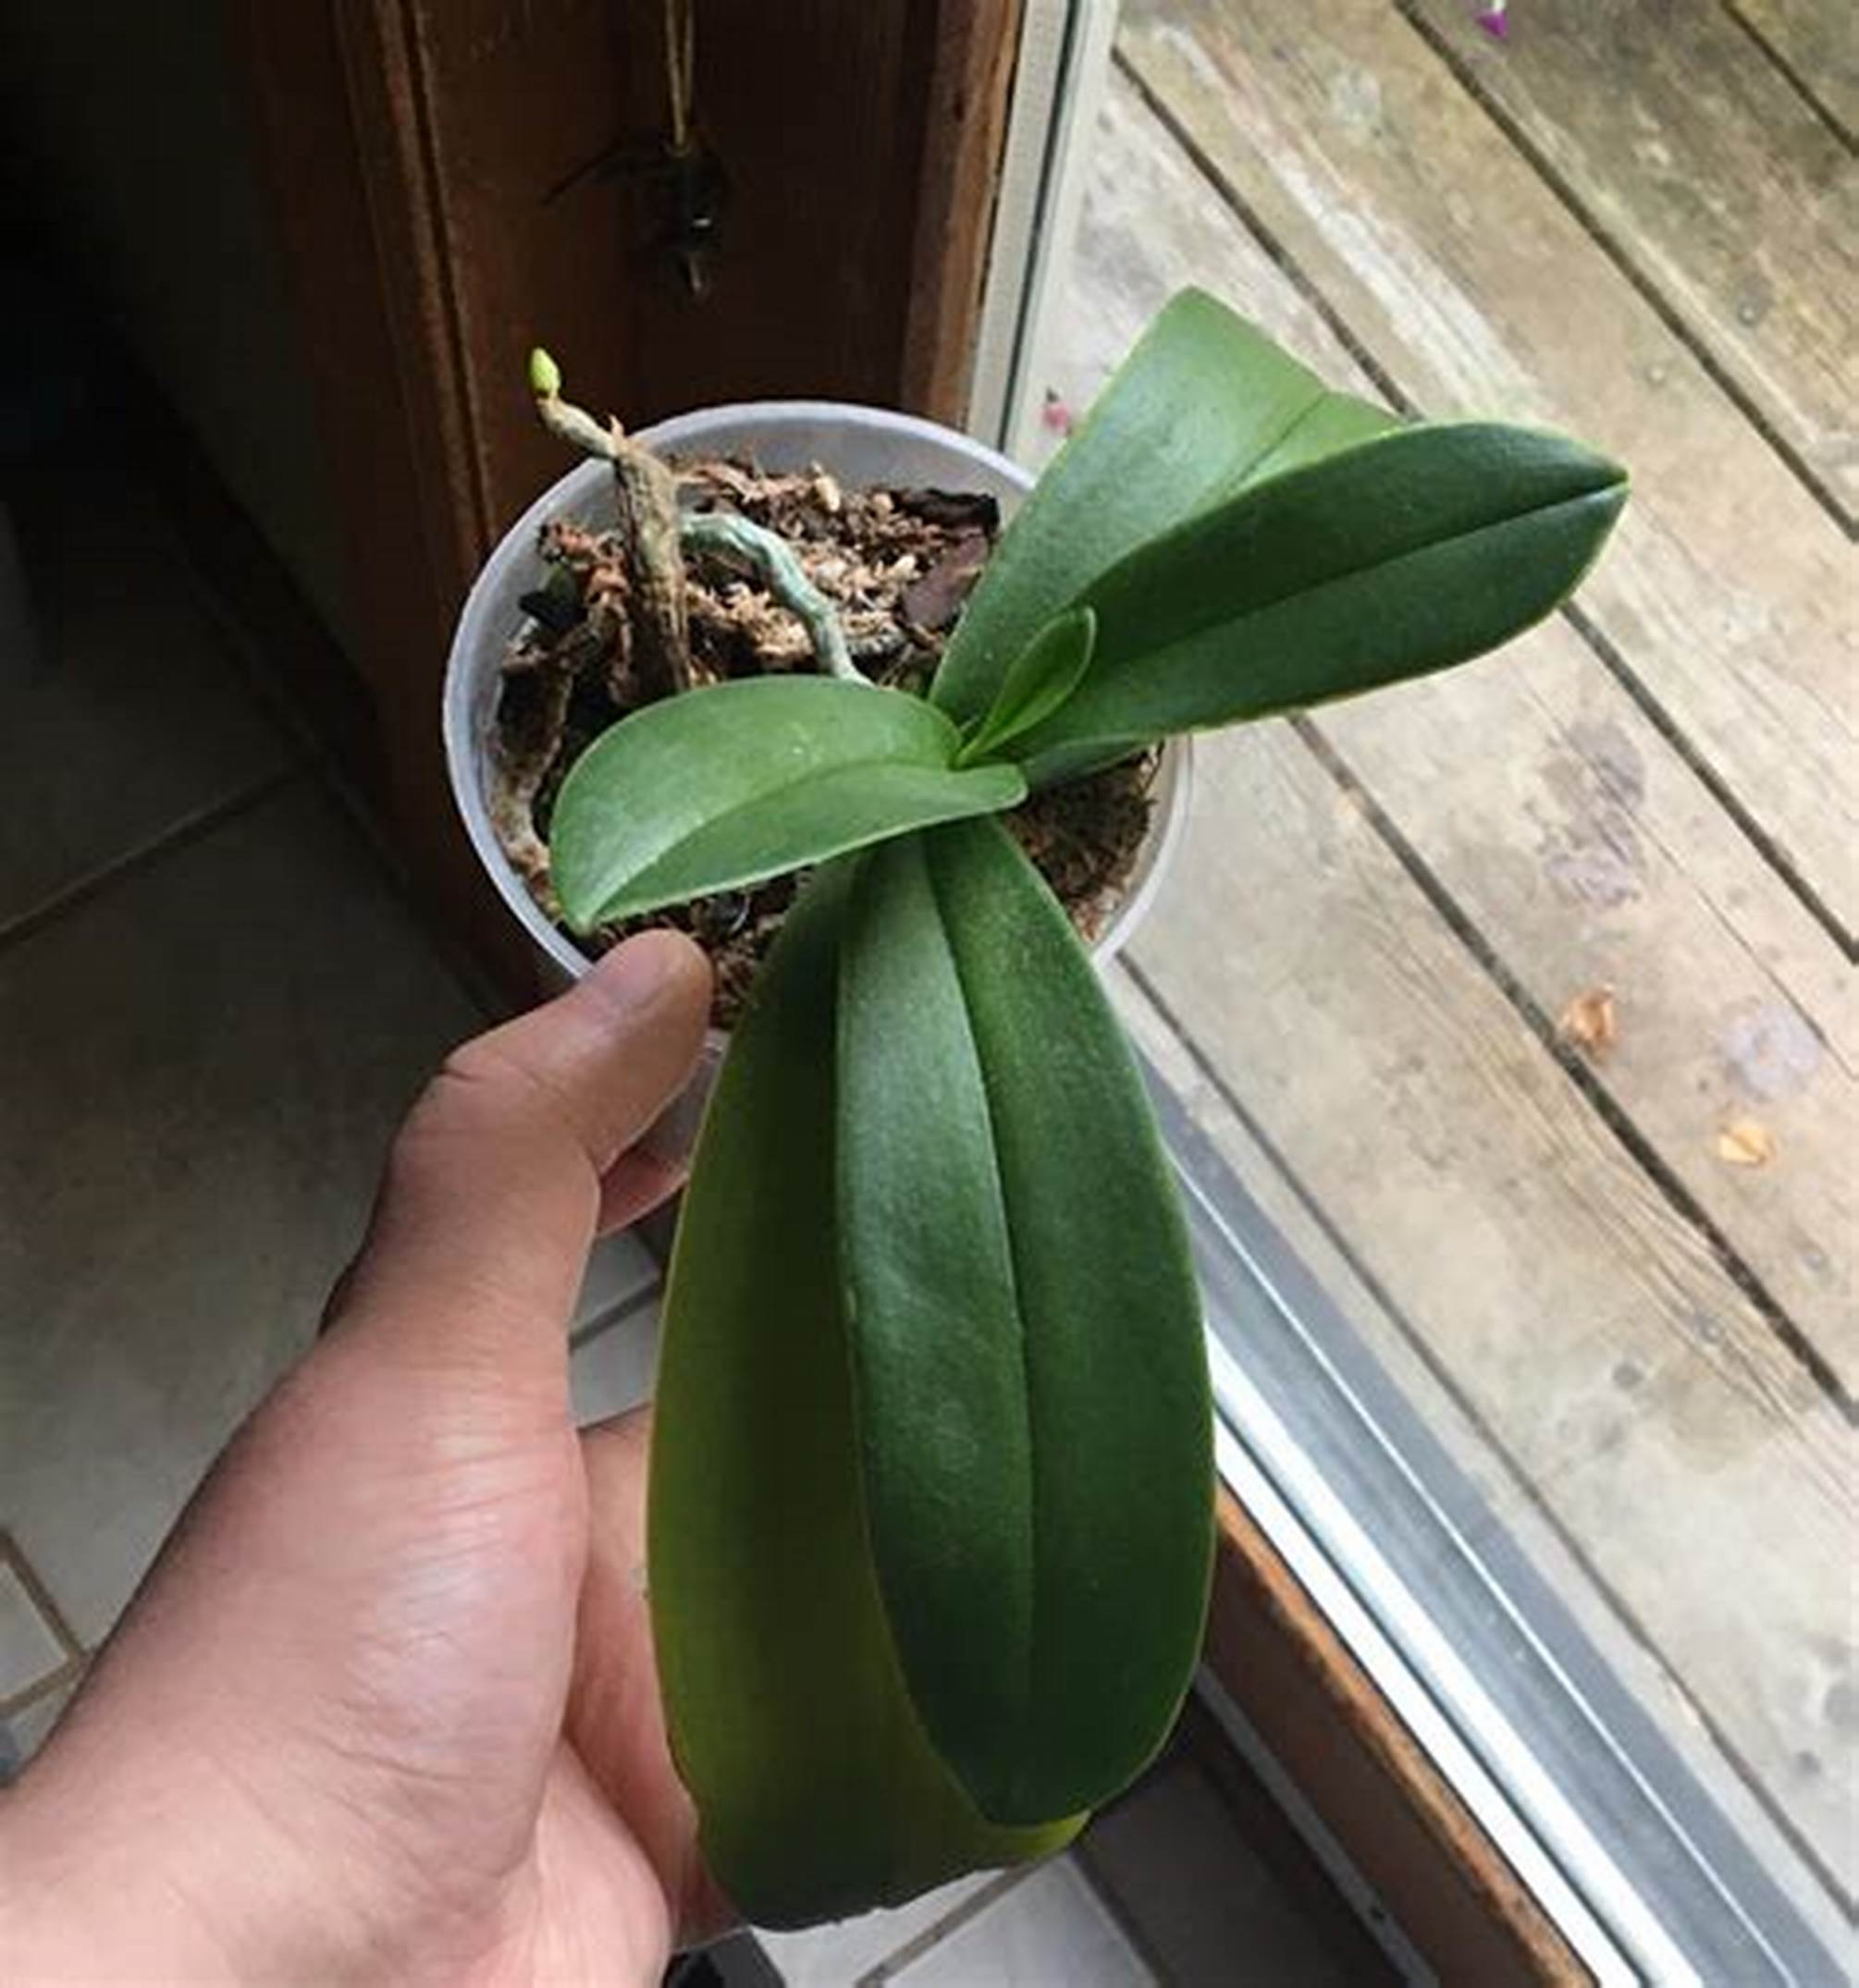orchid leaf: (547, 680, 1232, 1916)
